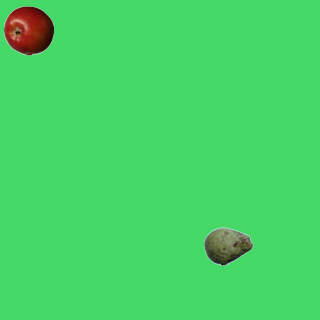Apple Braeburn: (3, 5, 53, 55)
Pear Stone: (203, 221, 253, 271)
